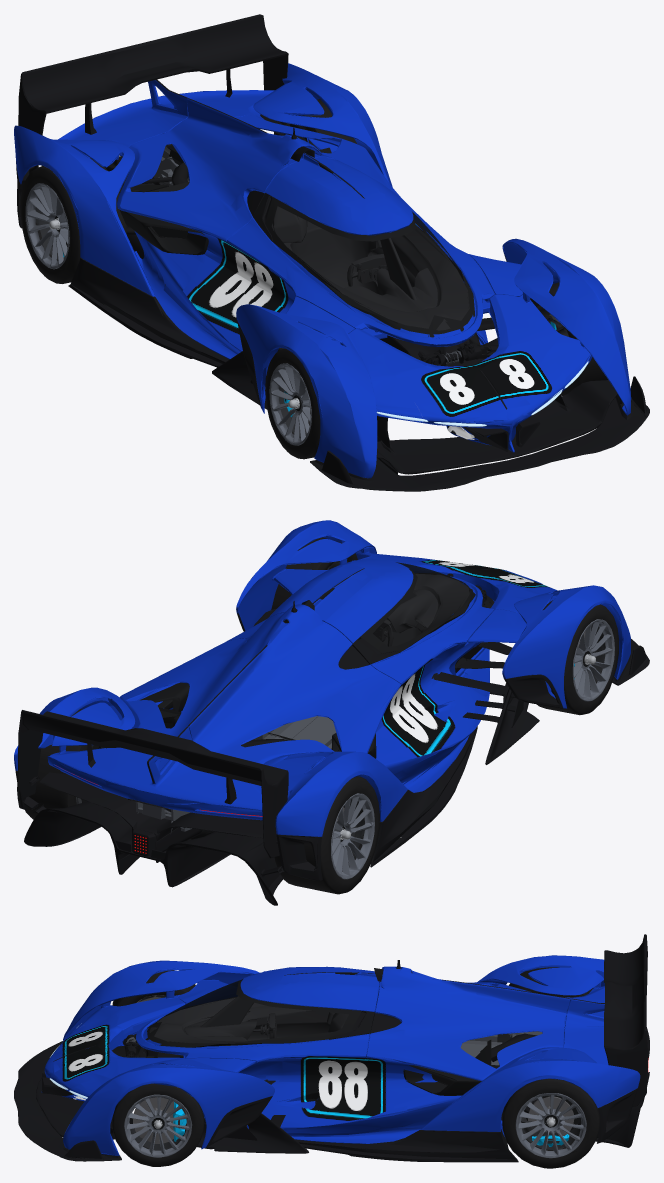
Rendered from aegis_lod0.glb.
3 renders of one model, top to bottom at view 1: azimuth 30°, elevation 25°; view 2: azimuth 150°, elevation 25°; view 3: azimuth 270°, elevation 25°, orthographic. The views are drawn at different scales.
Visible parts, largest first — view 1: Body, Wheel_RR, Wheel_FR, Wheel_FL; view 2: Body, Wheel_RR, Wheel_FR, Wheel_RL, Wheel_FL; view 3: Body, Wheel_RL, Wheel_FL, Wheel_FR, Caliper_RL.
Boxes of the visible parts, x1,y1,x2,y2 form: Body: (14, 14, 649, 491); Wheel_RR: (20, 158, 126, 283); Wheel_FR: (265, 348, 320, 459); Wheel_FL: (530, 282, 608, 395); Body: (14, 520, 649, 905); Wheel_RR: (274, 768, 379, 894); Wheel_FR: (537, 600, 618, 715); Wheel_RL: (25, 709, 98, 819); Wheel_FL: (271, 537, 357, 609); Body: (14, 934, 649, 1162); Wheel_RL: (502, 1078, 599, 1168); Wheel_FL: (112, 1083, 203, 1166); Wheel_FR: (112, 970, 195, 1043); Caliper_RL: (521, 1117, 569, 1146).
Size of the model in its own units: 2.08 by 1.18 by 4.5.
4 materials, 3 textured.
